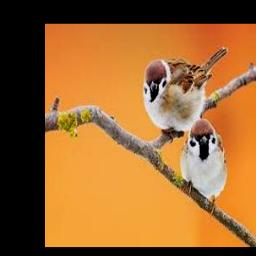Sparrow: (144, 47, 228, 143), (180, 118, 227, 217)
